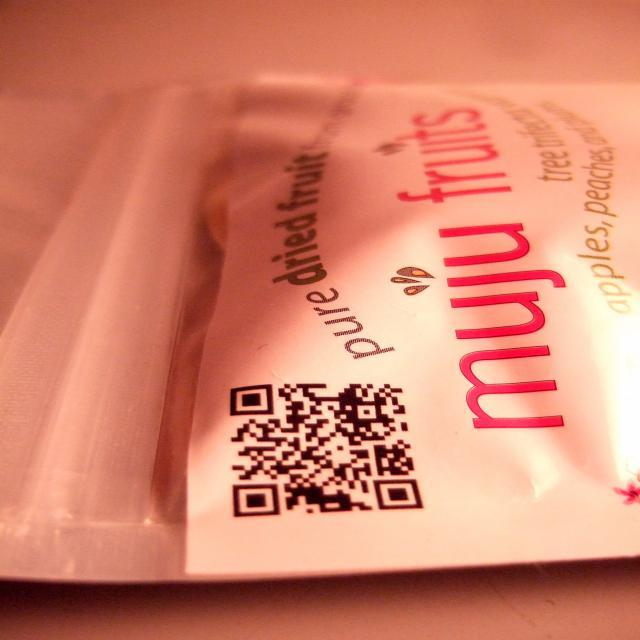qrcode: (232, 384, 425, 518)
